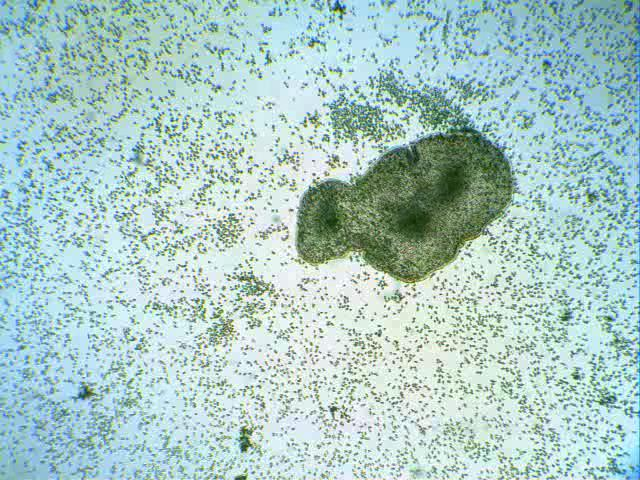Placozoan: (296, 131, 513, 282)
